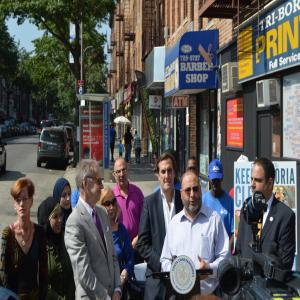Vehicle-registration-plate: (47, 147, 55, 152)
